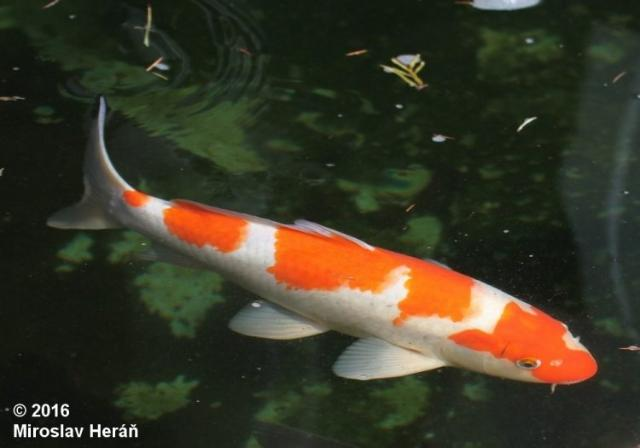Sirip Anal: (128, 230, 210, 278)
Sirip Dada: (322, 329, 452, 385)
Sirip Ekor: (45, 91, 125, 255)
Sirip Perut: (218, 284, 338, 350)
Sirip Punggung: (176, 184, 378, 260)
